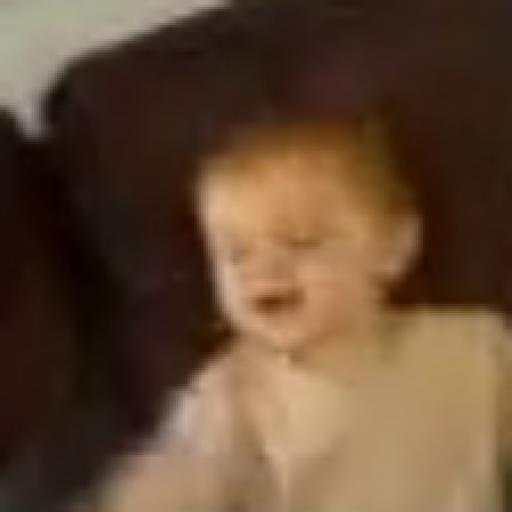Autism: (173, 113, 402, 413)
